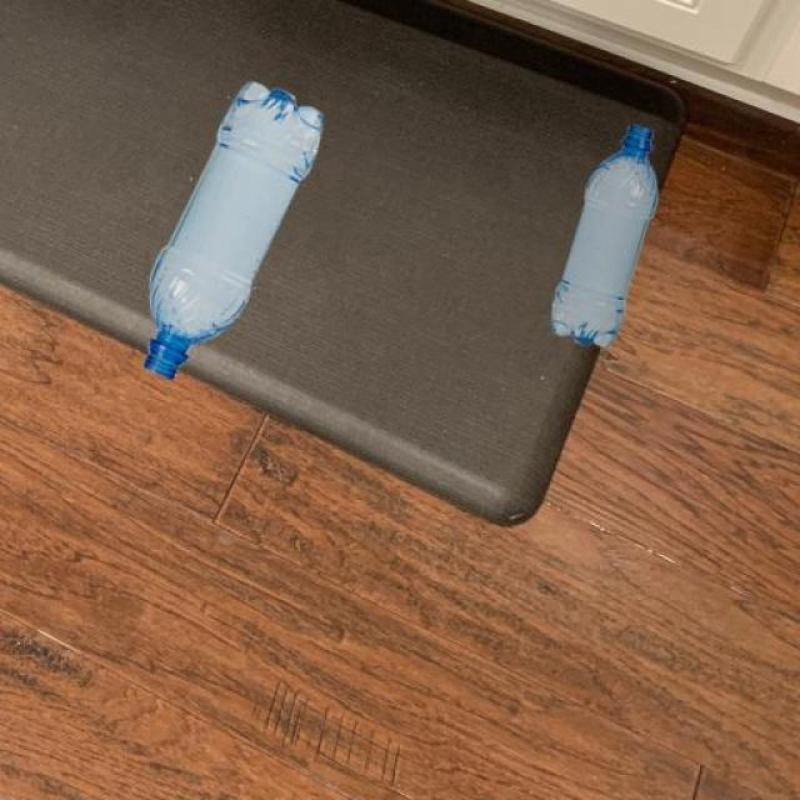botella: (145, 83, 325, 381), (546, 122, 664, 354)
